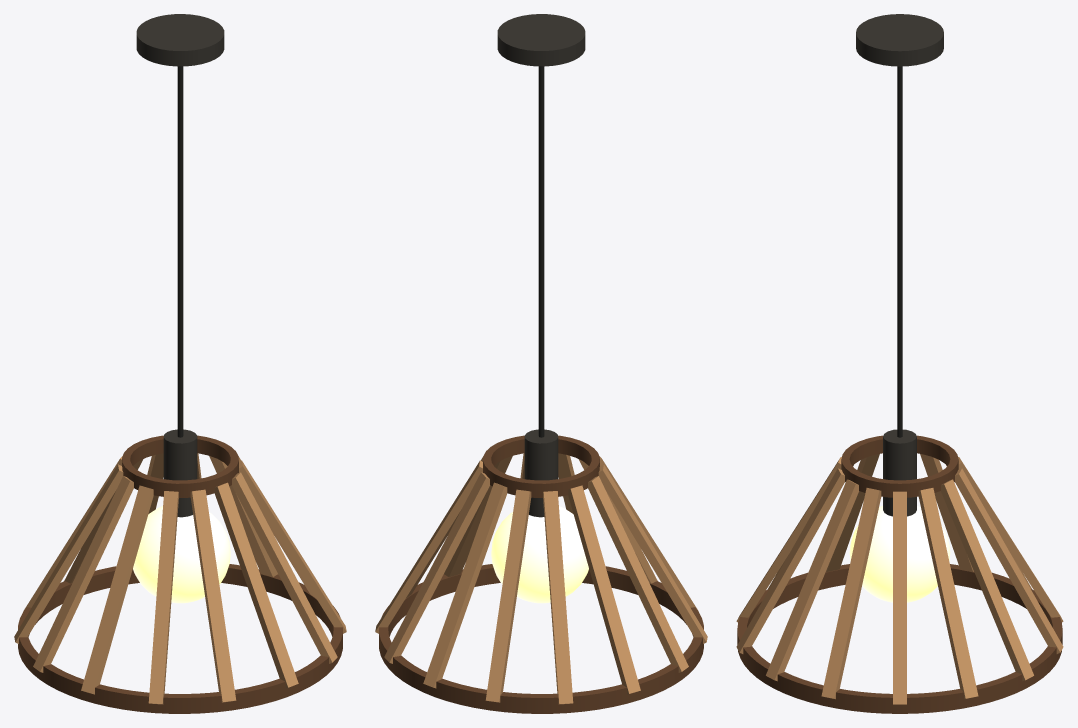
The model's file is light-living-cedar-pendant.gltf.
The picture shows the model from 3 angles, left to right: view 1: azimuth 30°, elevation 25°; view 2: azimuth 150°, elevation 25°; view 3: azimuth 270°, elevation 25°; orthographic projection.
Parts seen in each view (by area): view 1: Living cedar pendant lower rim, Living cedar pendant warm diffuser, Living cedar pendant ceiling rose, Living cedar pendant shade slat 08, Living cedar pendant shade slat 11, Living cedar pendant shade slat 10, Living cedar pendant shade slat 09, Living cedar pendant top rim, Living cedar pendant shade slat 07, Living cedar pendant shade slat 12, Living cedar pendant fabric cord, Living cedar pendant shade slat 06 (+5 smaller); view 2: Living cedar pendant lower rim, Living cedar pendant warm diffuser, Living cedar pendant ceiling rose, Living cedar pendant shade slat 06, Living cedar pendant shade slat 03, Living cedar pendant shade slat 04, Living cedar pendant shade slat 05, Living cedar pendant top rim, Living cedar pendant shade slat 07, Living cedar pendant shade slat 02, Living cedar pendant fabric cord, Living cedar pendant shade slat 08 (+5 smaller); view 3: Living cedar pendant lower rim, Living cedar pendant warm diffuser, Living cedar pendant ceiling rose, Living cedar pendant shade slat 01, Living cedar pendant shade slat 13, Living cedar pendant shade slat 02, Living cedar pendant shade slat 12, Living cedar pendant top rim, Living cedar pendant shade slat 00, Living cedar pendant shade slat 11, Living cedar pendant shade slat 03, Living cedar pendant fabric cord (+5 smaller).
Part boxes in pixels (x1,y1,x2,y2): Living cedar pendant lower rim: (18,564,342,713); Living cedar pendant warm diffuser: (133,506,230,603); Living cedar pendant ceiling rose: (136,14,224,66); Living cedar pendant shade slat 08: (81,485,153,694); Living cedar pendant shade slat 11: (214,482,298,688); Living cedar pendant shade slat 10: (190,489,236,702); Living cedar pendant shade slat 09: (148,491,178,704); Living cedar pendant top rim: (122,435,238,497); Living cedar pendant shade slat 07: (33,476,133,672); Living cedar pendant shade slat 12: (232,472,337,663); Living cedar pendant fabric cord: (177,66,183,437); Living cedar pendant shade slat 06: (14,464,123,643); Living cedar pendant lower rim: (379,564,703,713); Living cedar pendant warm diffuser: (491,506,588,603); Living cedar pendant ceiling rose: (497,14,585,66); Living cedar pendant shade slat 06: (568,485,640,694); Living cedar pendant shade slat 03: (423,482,507,688); Living cedar pendant shade slat 04: (485,489,531,702); Living cedar pendant shade slat 05: (543,491,573,704); Living cedar pendant top rim: (483,435,599,497); Living cedar pendant shade slat 07: (588,476,688,672); Living cedar pendant shade slat 02: (384,472,489,663); Living cedar pendant fabric cord: (538,66,544,437); Living cedar pendant shade slat 08: (598,464,707,643); Living cedar pendant lower rim: (737,564,1062,713); Living cedar pendant warm diffuser: (849,506,950,602); Living cedar pendant ceiling rose: (856,14,943,66); Living cedar pendant shade slat 01: (918,488,978,699); Living cedar pendant shade slat 13: (821,488,881,699); Living cedar pendant shade slat 02: (941,479,1033,681); Living cedar pendant shade slat 12: (766,479,858,681); Living cedar pendant top rim: (841,435,958,497); Living cedar pendant shade slat 00: (893,491,906,704); Living cedar pendant shade slat 11: (736,468,844,653); Living cedar pendant shade slat 03: (955,468,1063,653); Living cedar pendant fabric cord: (897,66,902,437).
Bounding box in the file's own units: 0.4905 × 0.9975 × 0.4829.
